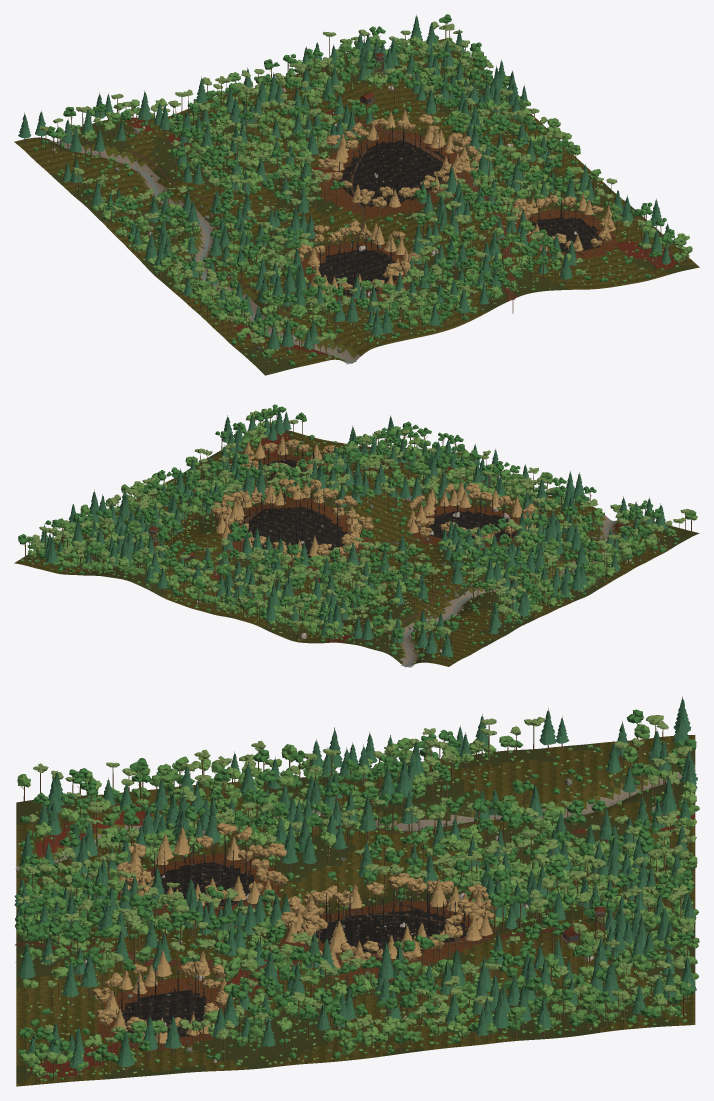
The picture shows the model from 3 angles, top to bottom: view 1: azimuth 30°, elevation 25°; view 2: azimuth 150°, elevation 25°; view 3: azimuth 270°, elevation 25°; orthographic projection. The views are drawn at different scales.
Visible parts, largest first — view 1: terrain_forest, road_dirt_forest, burnt_fallen_logs; view 2: terrain_forest; view 3: terrain_forest, burnt_fallen_logs, road_dirt_forest.
Boxes of the visible parts, x1=… form: terrain_forest: x1=14, y1=39, x2=699, y2=375; road_dirt_forest: x1=329, y1=111, x2=514, y2=300; burnt_fallen_logs: x1=318, y1=146, x2=598, y2=290; terrain_forest: x1=14, y1=427, x2=699, y2=667; terrain_forest: x1=16, y1=735, x2=695, y2=1086; burnt_fallen_logs: x1=123, y1=862, x2=467, y2=1034; road_dirt_forest: x1=14, y1=926, x2=573, y2=969.
Size of the model in its own units: 305 by 64.24 by 303.
33 materials, 16 textured.
